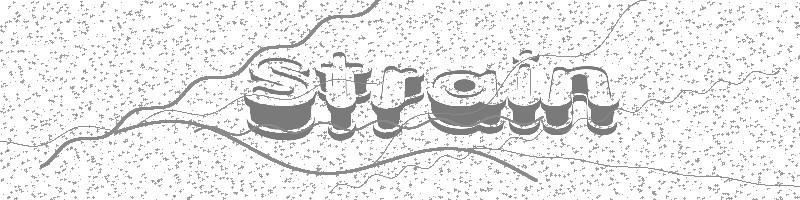a: (428, 70, 507, 135)
i: (508, 50, 542, 135)
n: (542, 66, 619, 136)
r: (371, 66, 425, 138)
s: (246, 57, 316, 140)
t: (316, 53, 370, 140)
